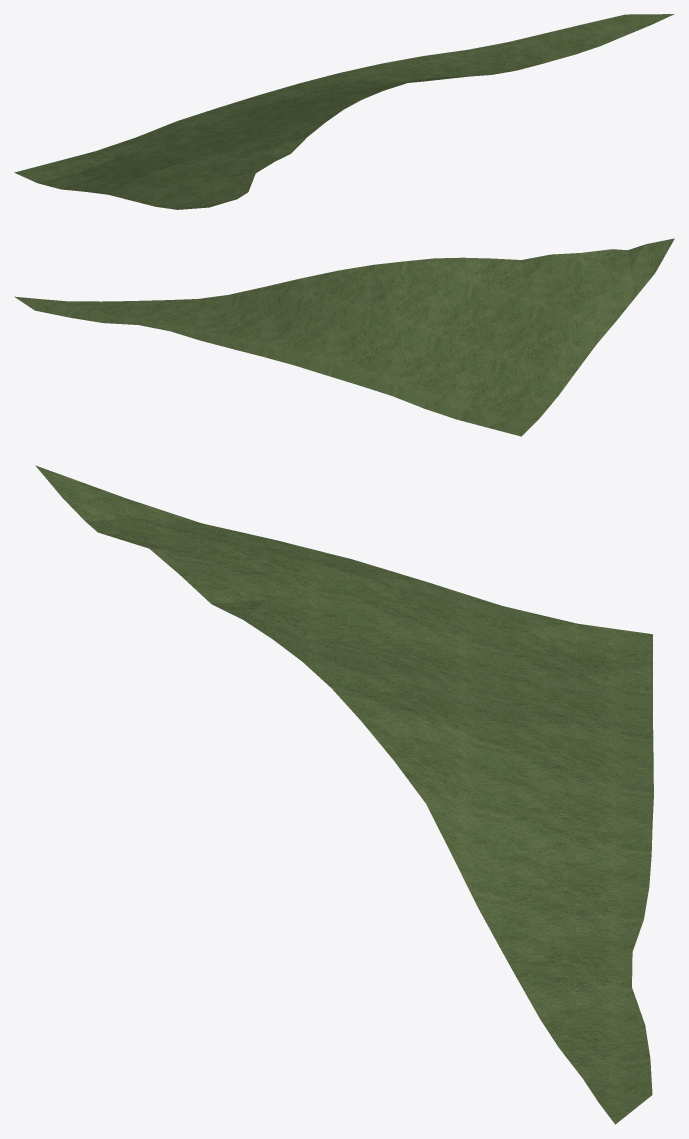
File: a_carisle_mid_landmass_02_07.fbx
3 views of the same model, one above another, from view 1: azimuth 30°, elevation 25°; view 2: azimuth 150°, elevation 25°; view 3: azimuth 270°, elevation 25° (orthographic). The views are drawn at different scales.
Parts seen in each view (by area): view 1: a_carisle_mid_landmass_02_07; view 2: a_carisle_mid_landmass_02_07; view 3: a_carisle_mid_landmass_02_07.
Boxes of the visible parts, <box> form: a_carisle_mid_landmass_02_07: <box>14,14,674,209</box>; a_carisle_mid_landmass_02_07: <box>14,238,674,436</box>; a_carisle_mid_landmass_02_07: <box>35,465,653,1124</box>.
Size of the model in its own units: 32.49 by 16.79 by 5.09.
